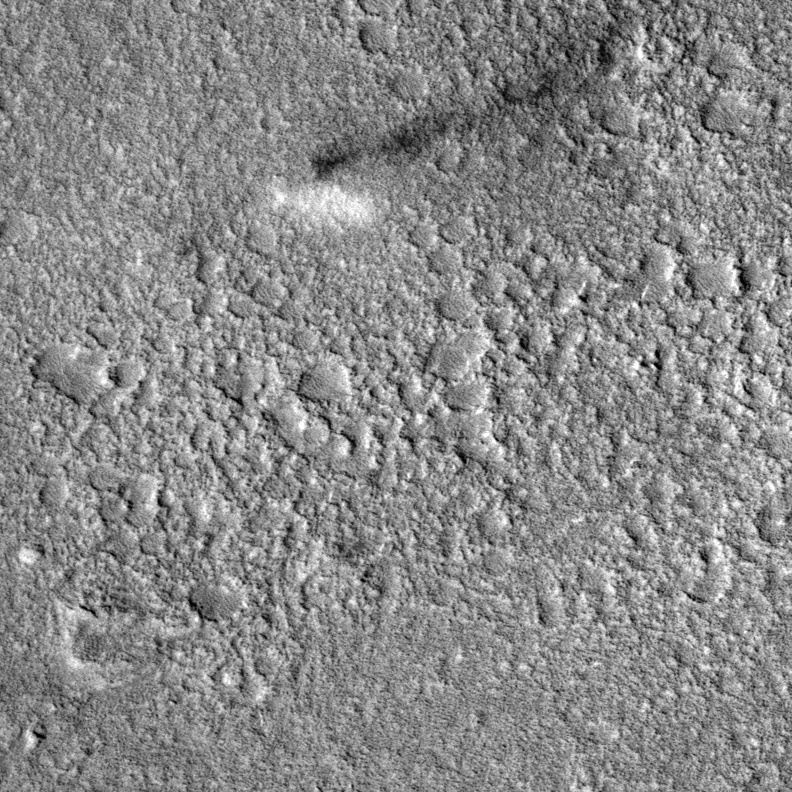dust_devil: (264, 62, 598, 231)
